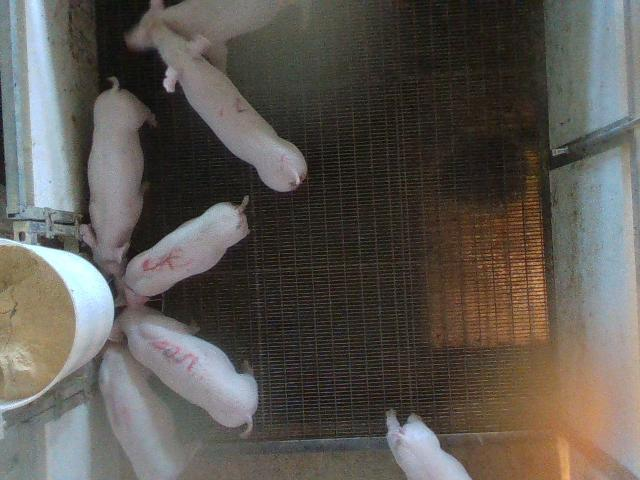pig-3: (111, 306, 258, 433)
pig-4: (99, 342, 199, 479)
pig-5: (124, 196, 249, 304)
